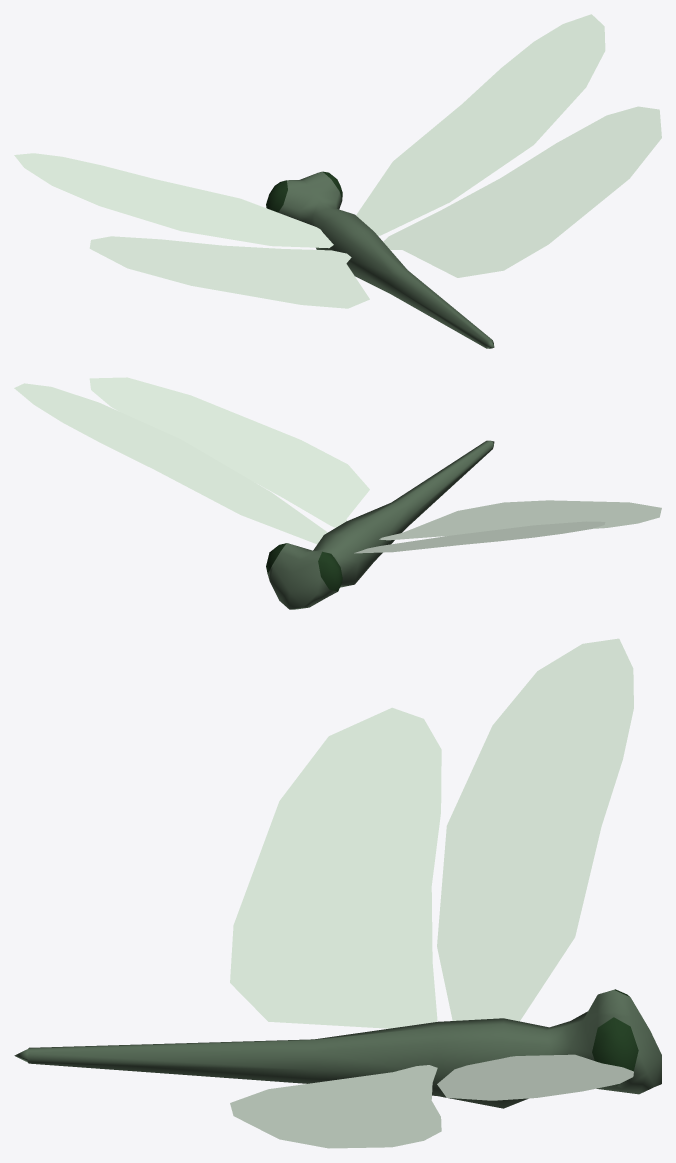
Rendered from dragonfly-assetquest.glb.
3 views of the same model, one above another, from view 1: azimuth 30°, elevation 25°; view 2: azimuth 150°, elevation 25°; view 3: azimuth 270°, elevation 25° (orthographic). The views are drawn at different scales.
Visible parts, largest first — view 1: Dragonfly_3; view 2: Dragonfly_3; view 3: Dragonfly_3.
Part boxes in pixels (x1,y1,x2,y2): Dragonfly_3: (14,14,661,348); Dragonfly_3: (14,377,661,609); Dragonfly_3: (14,638,661,1148).
Bounding box in the file's own units: 0.2399 × 0.0616 × 0.1468.
1 material, 1 textured.
